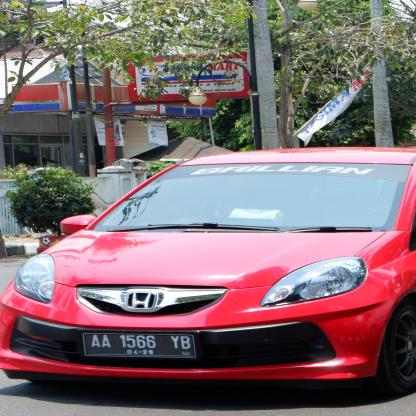Plat-Nomor: (78, 331, 204, 365)
